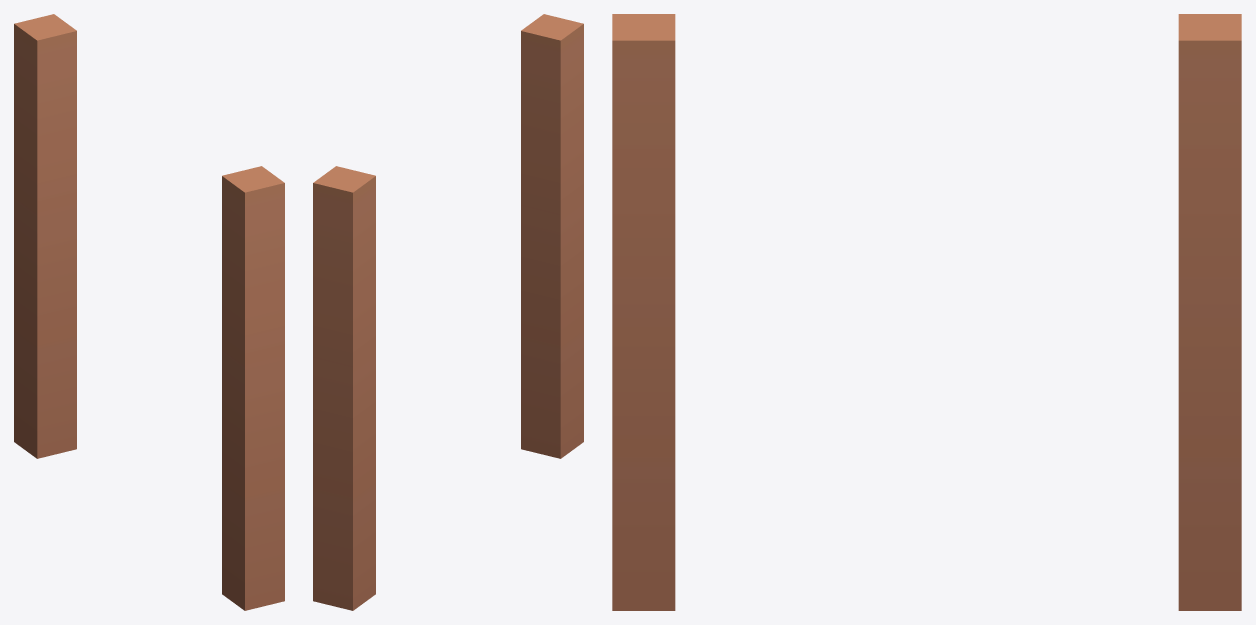
Rendered from poles.glb.
3 views of the same model, side by side, from view 1: azimuth 30°, elevation 25°; view 2: azimuth 150°, elevation 25°; view 3: azimuth 270°, elevation 25° (orthographic). The views are drawn at different scales.
Parts seen in each view (by area): view 1: poles; view 2: poles; view 3: poles.
Boxes of the visible parts, <box> form: poles: <box>14,14,284,610</box>; poles: <box>313,14,583,610</box>; poles: <box>612,14,1241,610</box>.
Bounding box in the file's own units: 0.1 × 1 × 1.
Materials: 1 (1 with a texture image).
